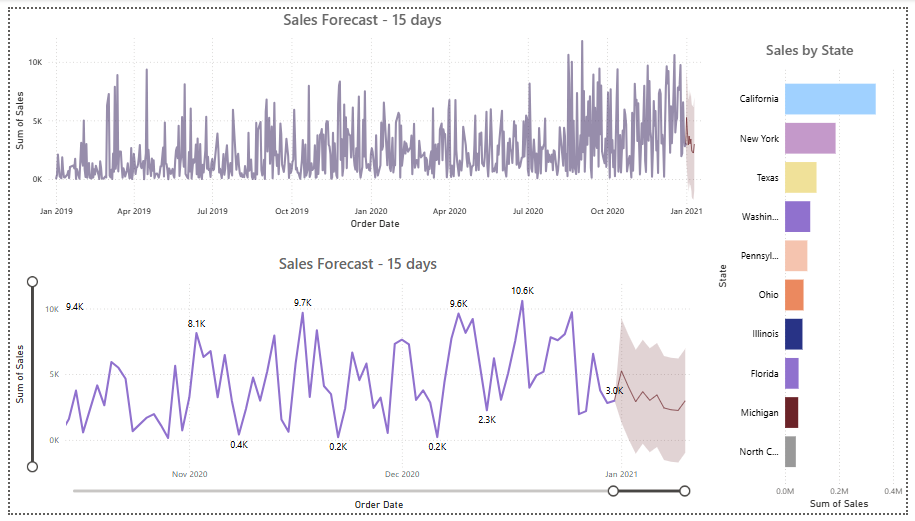

This screenshot's page, from the dashboard's own definition file:
{"tool":"powerbi","page":{"name":"Forecast","canvas":[1280,720],"ordinal":1},"visuals":[{"type":"lineChart","title":"Sales Forecast - 15 days","fields":{"Y":["Sum(Sheet1.Sales)"],"Category":["Sheet1.Order Date"]},"box":[0,0,1006.6,319.7],"z":0},{"type":"lineChart","title":" Sales Forecast - 15 days","fields":{"Y":["Sum(Sheet1.Sales)"],"Category":["Sheet1.Order Date"]},"box":[0,348.5,993.6,371.5],"z":1000},{"type":"barChart","title":"Sales by State","fields":{"Y":["Sum(Sheet1.Sales)"],"Category":["Sheet1.State"]},"box":[1003.7,44.6,276.5,675.4],"z":2000}]}

Visuals, with their boxes in screenshot pixels (x1, y1, x2, y2), scaled from the page's 1280x720 canvas onto the 915x521 screenshot:
"Sales Forecast - 15 days" lineChart: <box>0,0,720,231</box>
" Sales Forecast - 15 days" lineChart: <box>0,252,710,520</box>
"Sales by State" barChart: <box>717,32,914,520</box>
